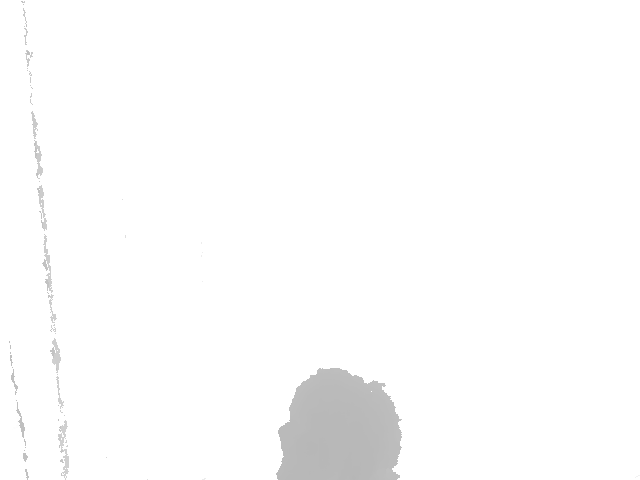head: (275, 368, 403, 480)
person: (274, 367, 402, 480)
